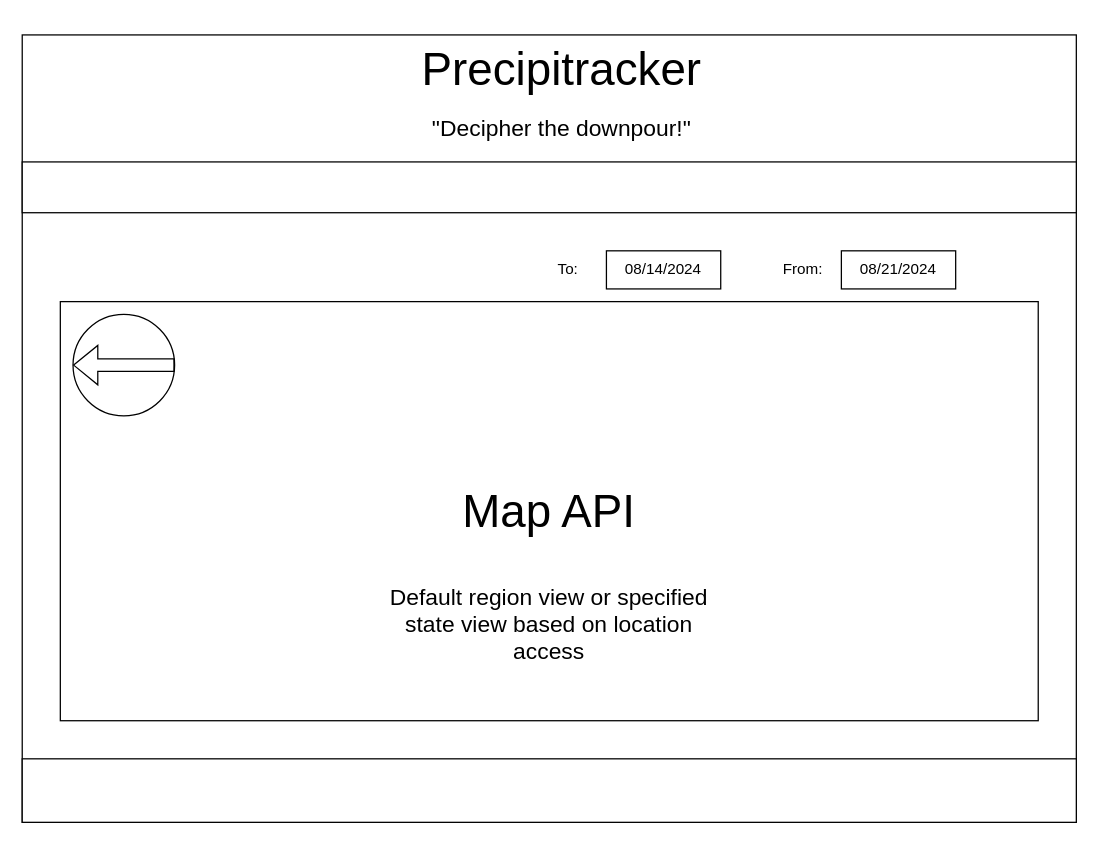
This 1099x845 diagram has some shape labels left out. Here are the shapes that lost their labels. From the top down, the centre of each, then its label:
pixel 548 187: Possible Header for "Settings" or "About Us"
pixel 548 790: Possible footer for other links
